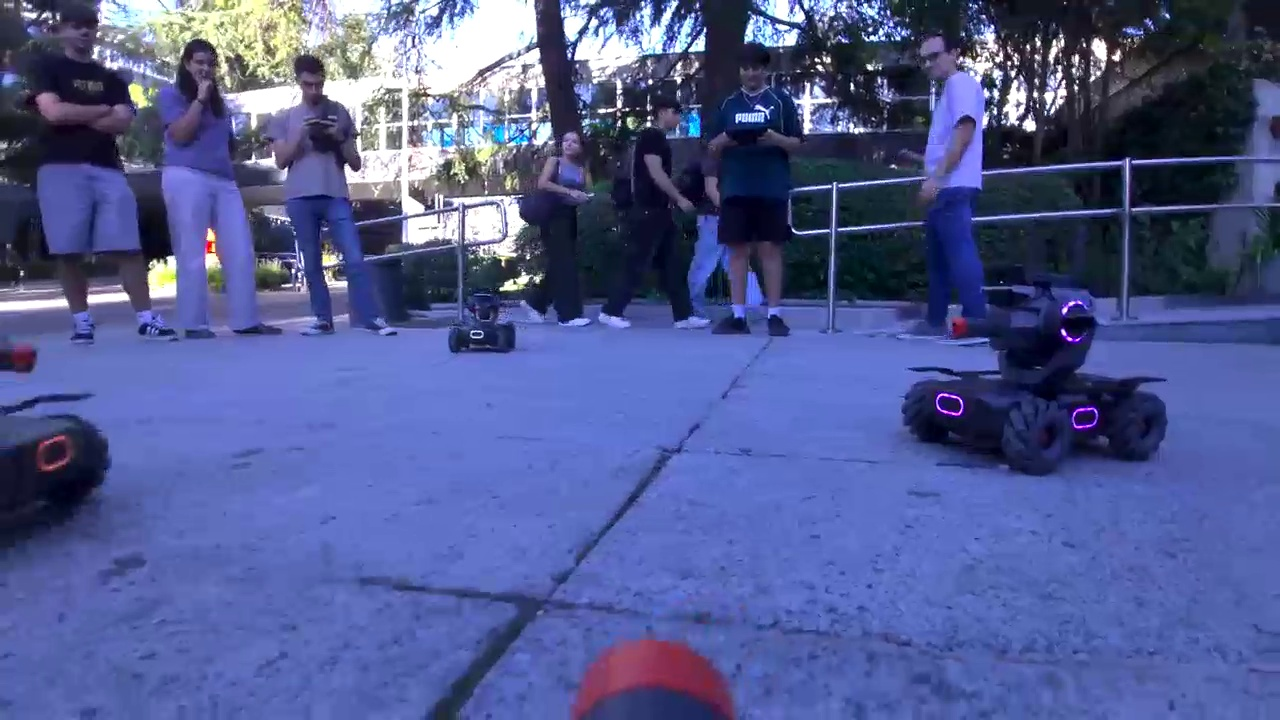robot: (901, 267, 1164, 482), (1, 318, 151, 542), (450, 283, 519, 360)
